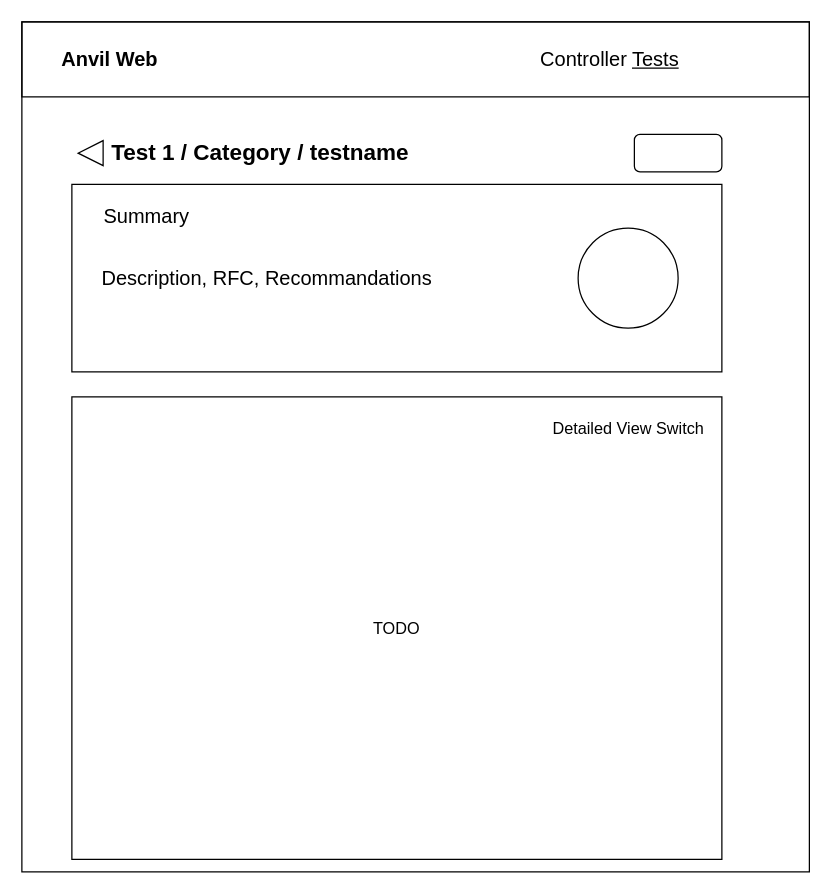
Some shapes in this 831 by 894 pixel diagram are drawn without their labels. The shapes that lost their labels are listed below. From the top down, each one's centre as x and y in pixels, then its label:
At pixel 677 152: "Re-Run".
At pixel 627 277: "# Success".
